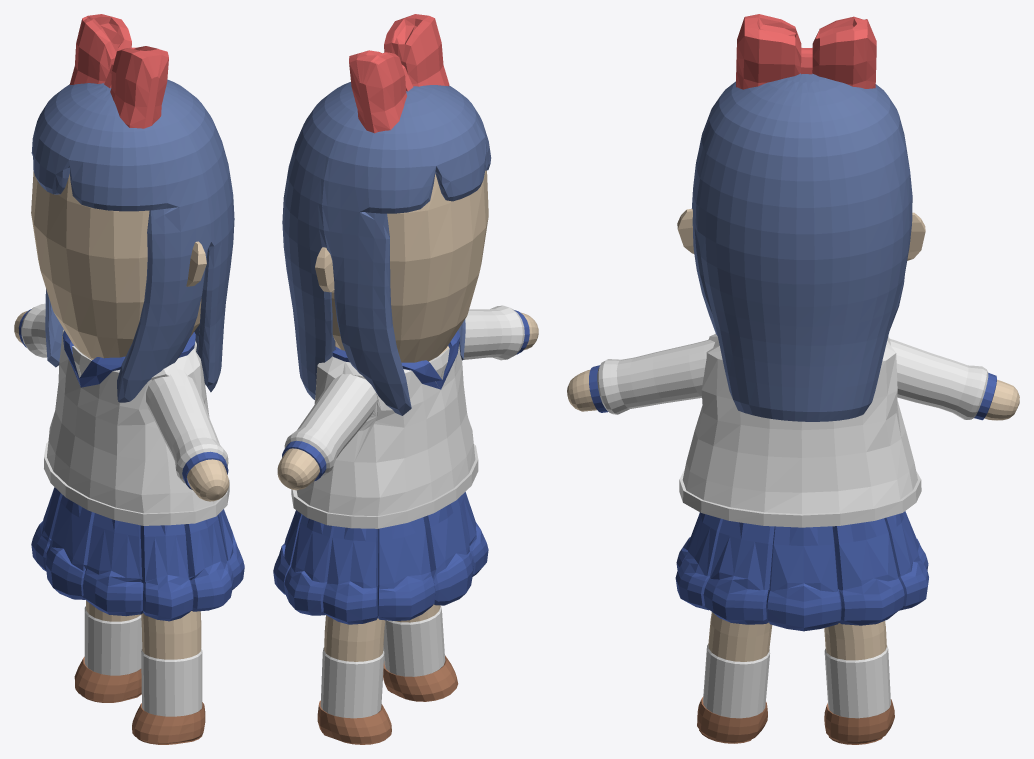
Rendered from pipimi.fbx.
3 renders of one model, left to right at view 1: azimuth 30°, elevation 25°; view 2: azimuth 150°, elevation 25°; view 3: azimuth 270°, elevation 25°, orthographic. The views are drawn at different scales.
Parts seen in each view (by area): view 1: pCylinder54; view 2: pCylinder54; view 3: pCylinder54.
Boxes of the visible parts, x1=… form: pCylinder54: x1=14, y1=14, x2=244, y2=744; pCylinder54: x1=273, y1=14, x2=538, y2=744; pCylinder54: x1=567, y1=14, x2=1019, y2=744.
Bounding box in the file's own units: 1.98 × 7.14 × 4.15.
